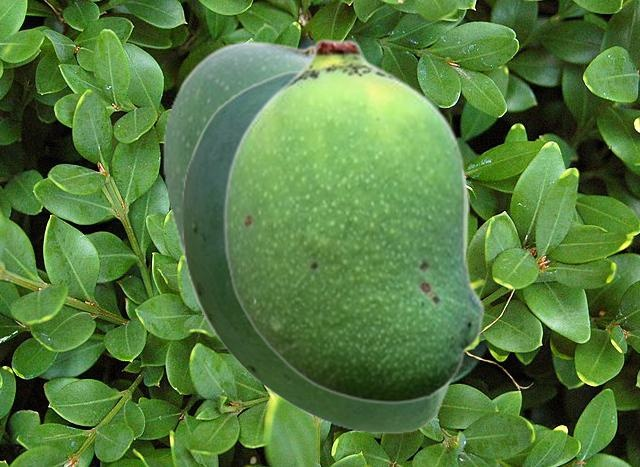green_mango: (181, 71, 468, 433), (223, 38, 484, 404), (162, 40, 314, 274)
